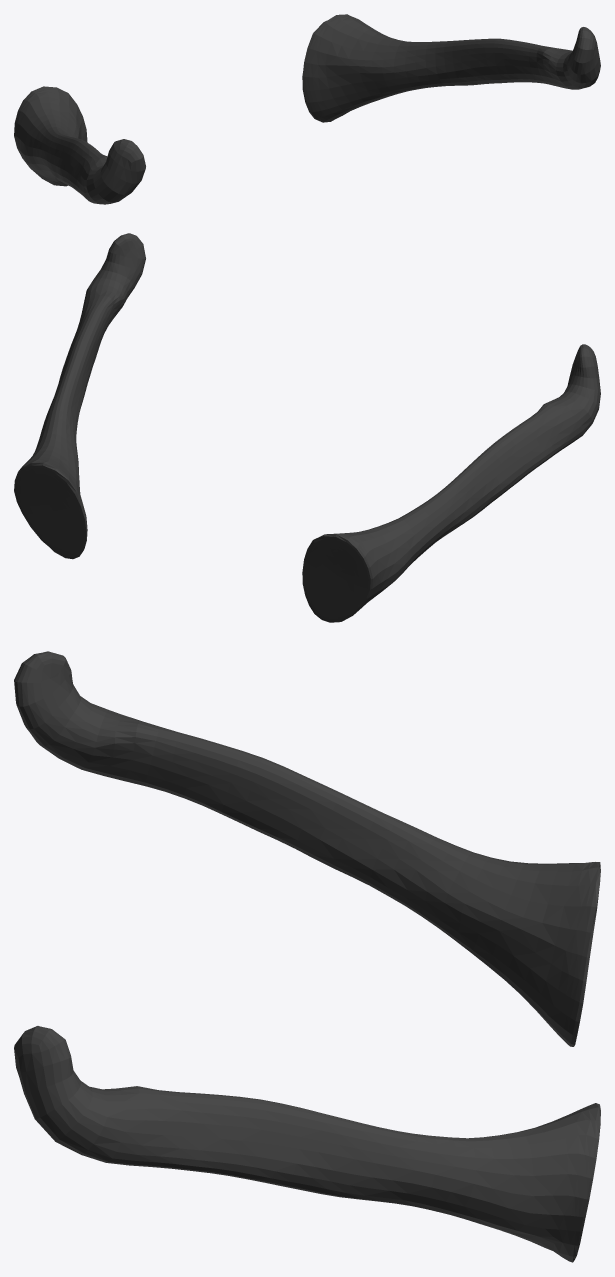
The model's file is hyoid_thyrohyoid_LO.glb.
3 views of the same model, one above another, from view 1: azimuth 30°, elevation 25°; view 2: azimuth 150°, elevation 25°; view 3: azimuth 270°, elevation 25° (orthographic). The views are drawn at different scales.
Visible parts, largest first — view 1: hyoid_thyrohyoid_LO; view 2: hyoid_thyrohyoid_LO; view 3: hyoid_thyrohyoid_LO.
Boxes of the visible parts, x1=… form: hyoid_thyrohyoid_LO: x1=14, y1=14, x2=600, y2=204; hyoid_thyrohyoid_LO: x1=14, y1=233, x2=600, y2=622; hyoid_thyrohyoid_LO: x1=14, y1=651, x2=600, y2=1262.
Bounding box in the file's own units: 0.4105 × 0.1435 × 0.2462.
Materials: 1 (1 with a texture image).
